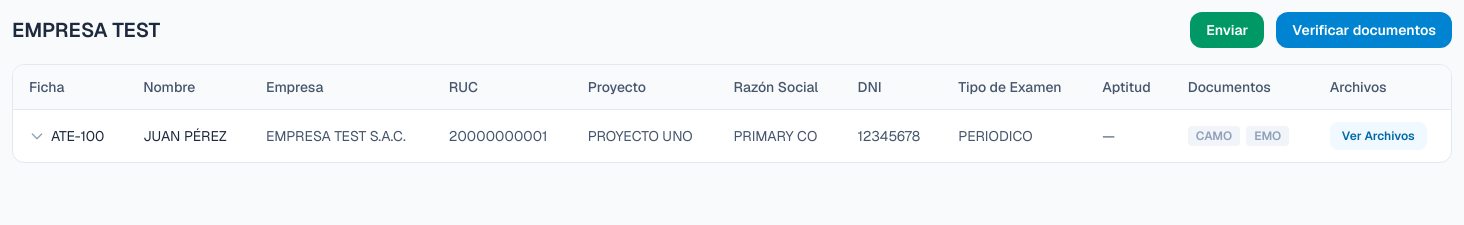
Scenario: WorkerDetailTable — Unified Table › should collapse sub-row on second chevron click
Step 1. Click the button "ATE-100" → [67, 136], box [29,126,104,146]
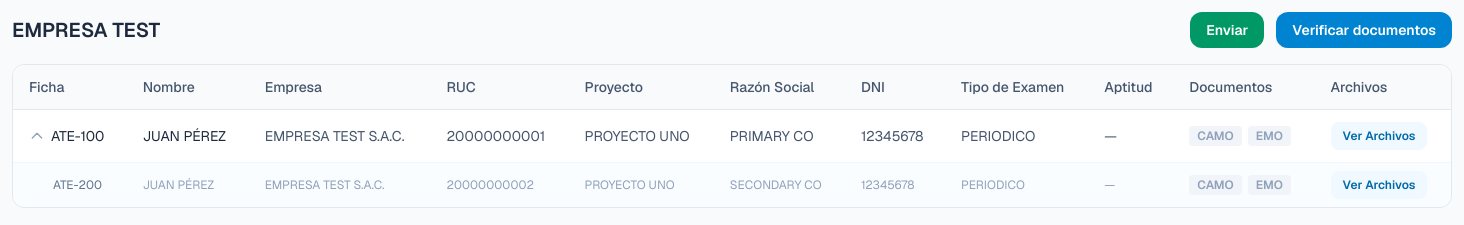
Expected: the text "ATE-200" is shown, [13,162,127,207]
Expected: the text "20000000002" is shown, [430,162,569,207]
Step 2. Click the button "ATE-100" → [67, 136], box [29,126,104,146]
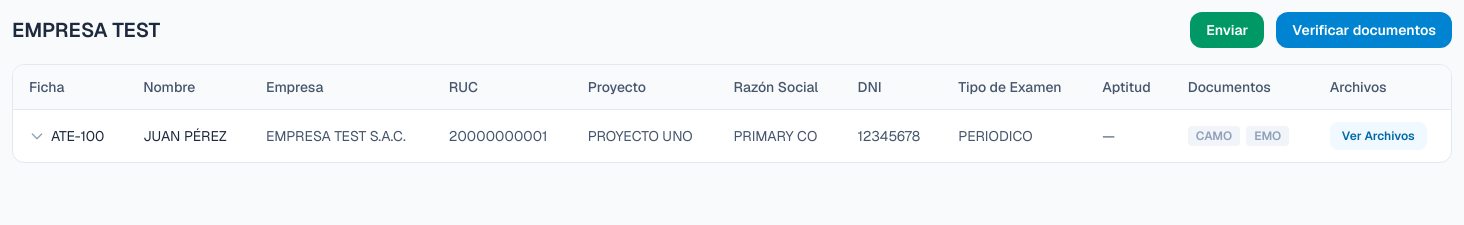
Expected: the text "ATE-200" is gone
